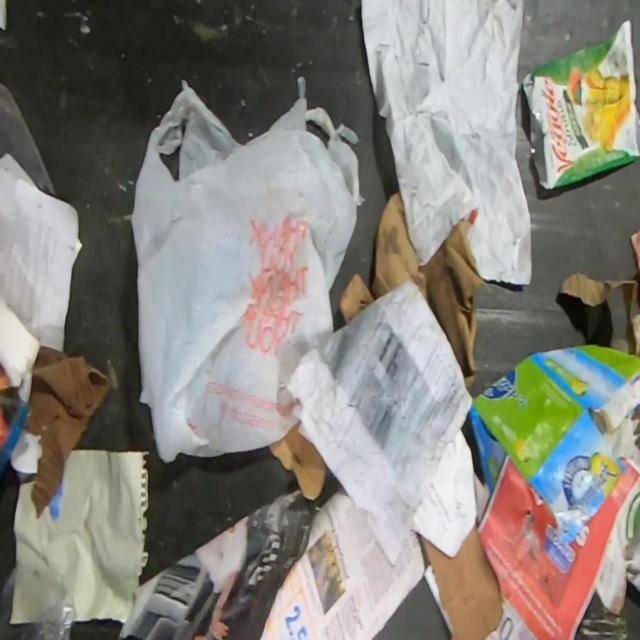cardboard: (469, 345, 640, 545), (339, 189, 483, 387), (22, 345, 111, 521), (421, 522, 502, 639), (560, 270, 640, 355)
rigid_plastic: (0, 84, 55, 195)
soft_plastic: (130, 76, 366, 463), (522, 17, 640, 192)
